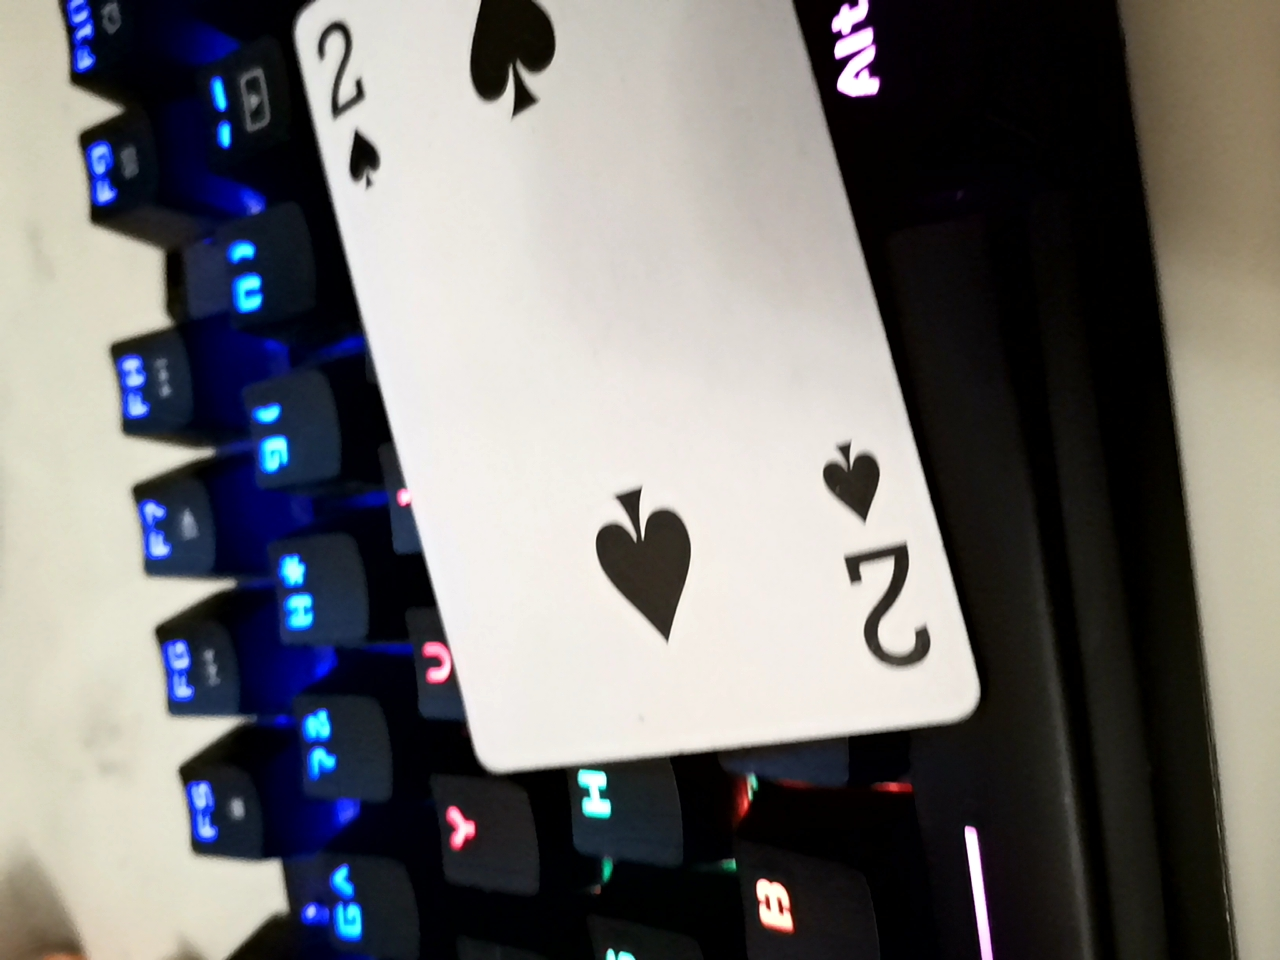ht 2: (328, 6, 982, 729)
